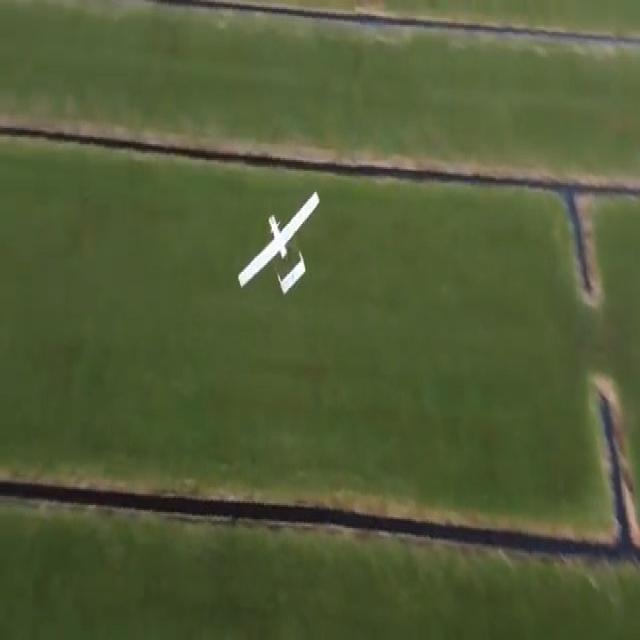iha: (265, 216, 298, 273)
